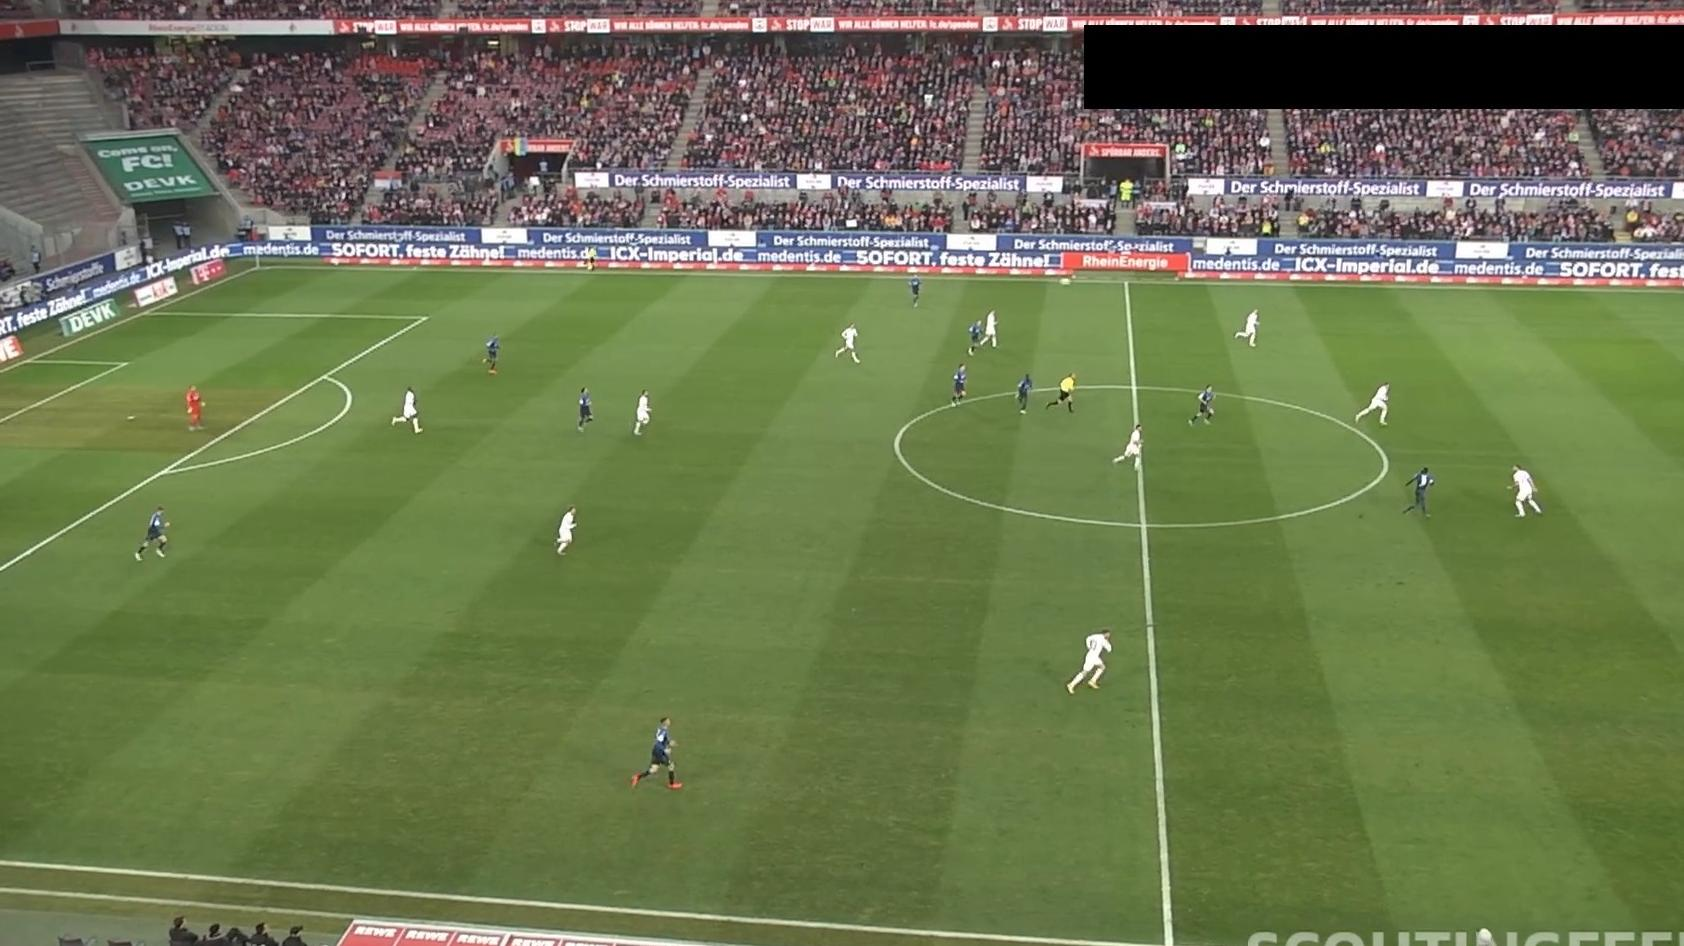ball: (1058, 276, 1073, 287)
